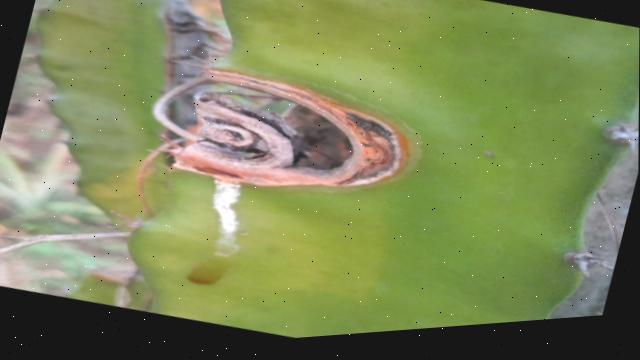stemcanker: (138, 64, 422, 194)
